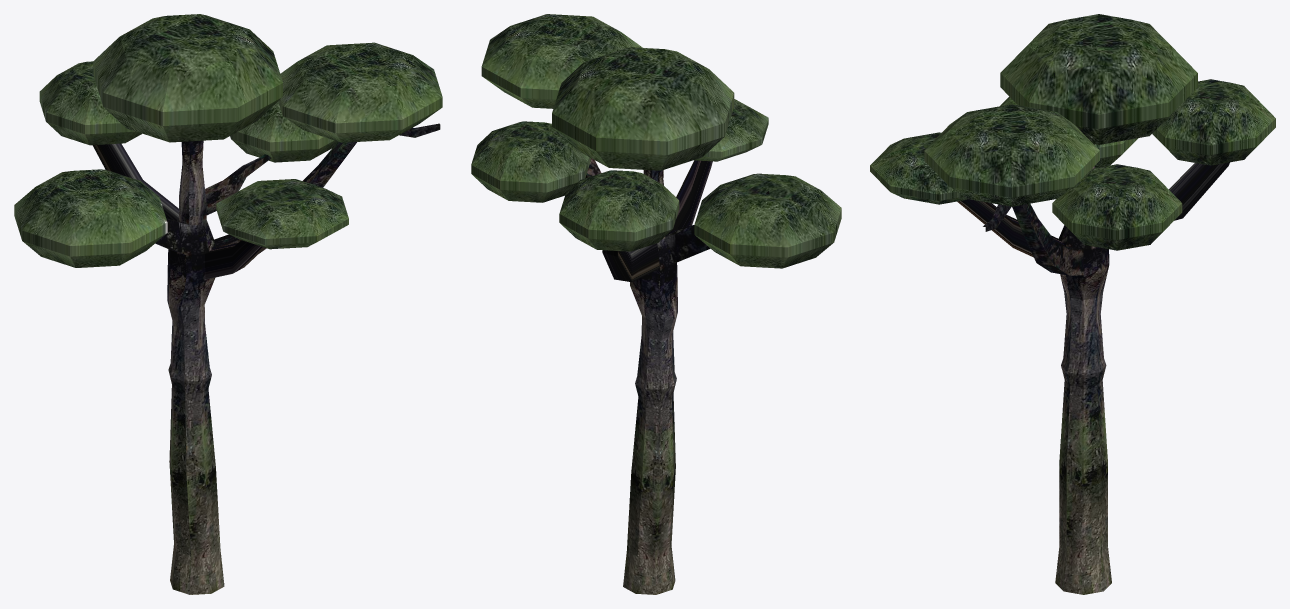
The model's file is cay-phi-lao-1.glb.
The picture shows the model from 3 angles, left to right: view 1: azimuth 30°, elevation 25°; view 2: azimuth 150°, elevation 25°; view 3: azimuth 270°, elevation 25°; orthographic projection. The views are drawn at different scales.
Visible parts, largest first — view 1: Phi_lao_; view 2: Phi_lao_; view 3: Phi_lao_.
Boxes of the visible parts, x1,y1,x2,y2 form: Phi_lao_: (14,14,442,594); Phi_lao_: (471,14,841,594); Phi_lao_: (870,14,1275,594).
Size of the model in its own units: 2.17 by 2.93 by 1.96.
Materials: 1 (1 with a texture image).
